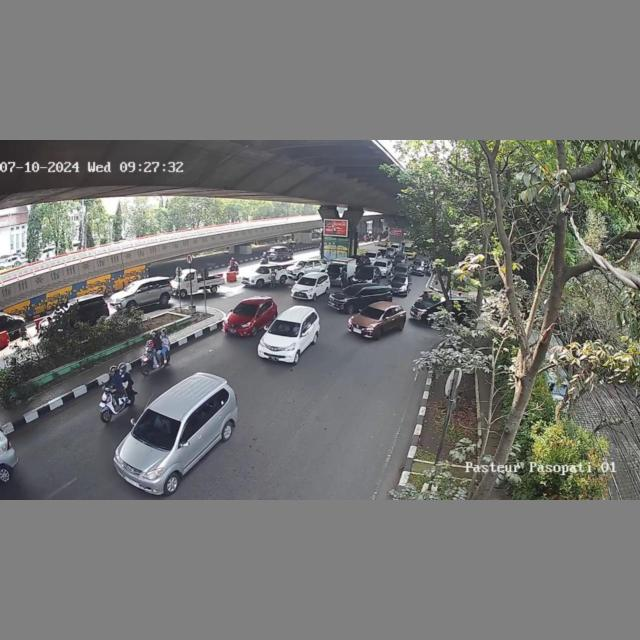windshield: (132, 407, 183, 454), (269, 319, 303, 337), (359, 305, 388, 319), (232, 303, 256, 316), (297, 277, 318, 286)
